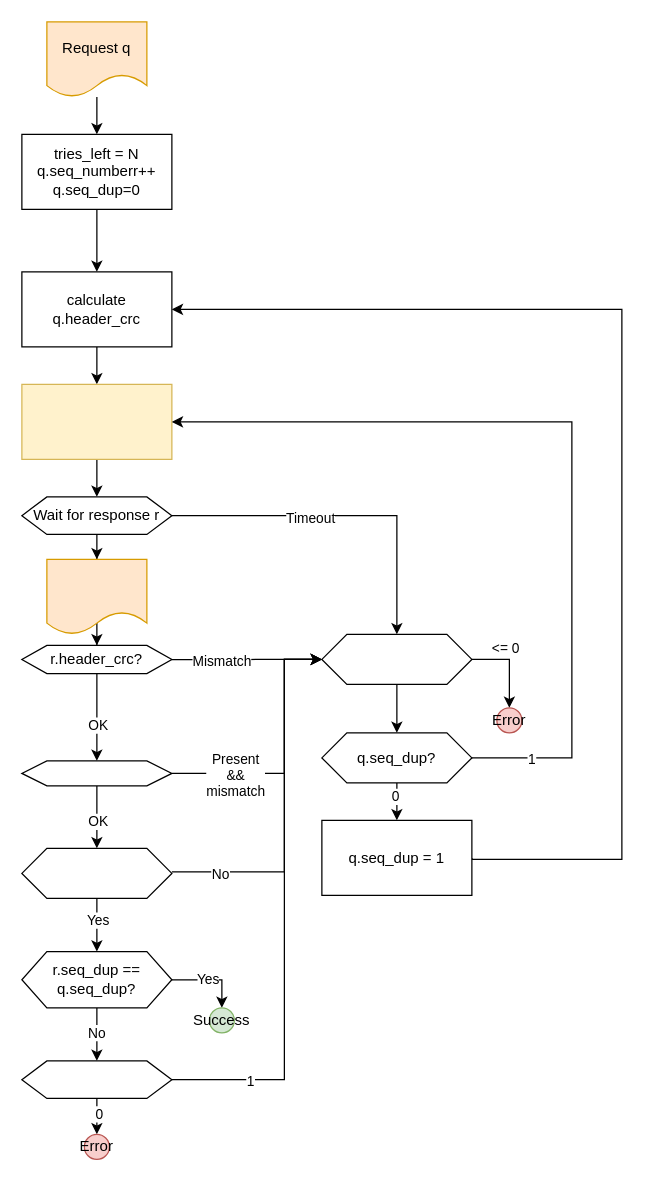
The diagram is 654 pixels wide and 1181 high, and some of its shapes have lost their labels. The centre of each missing label's shape, as x and y in pixels:
"--tries_left?" belongs at [396,658].
"r.data_crc?" belongs at [96,773].
"r.seq_dup?" belongs at [96,1079].
"r.seq_number == q.seq_number" belongs at [96,872].
"Response r" belongs at [96,596].
"Send q to ECP" belongs at [96,421].
